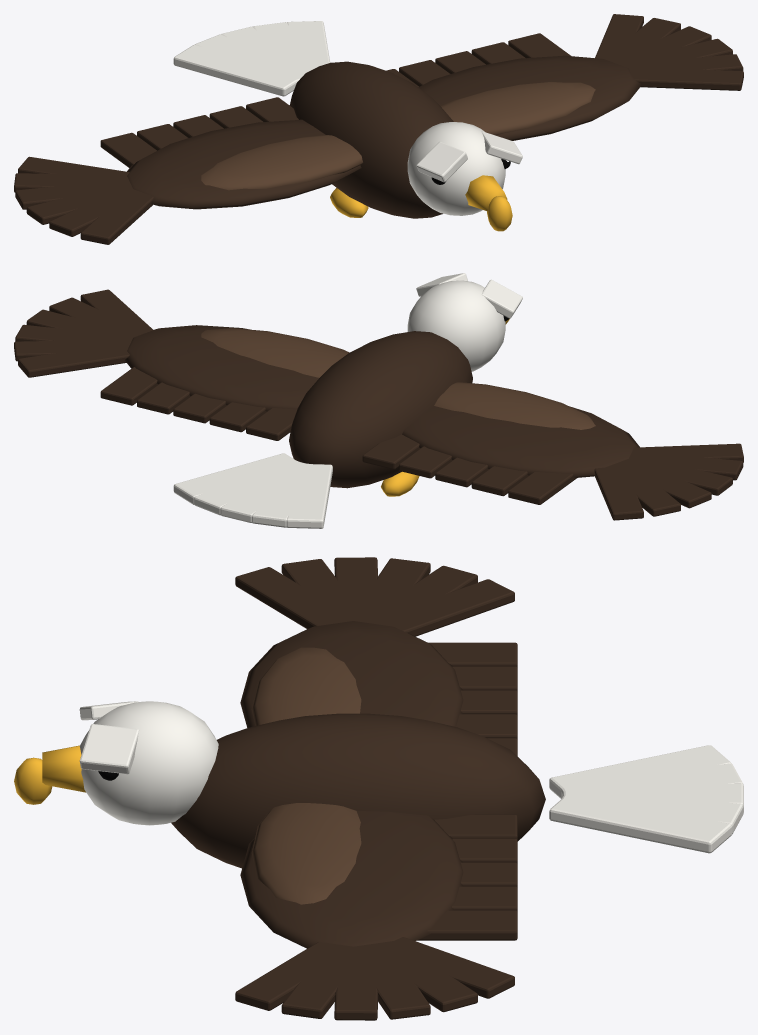
The model's file is eagle.glb.
The picture shows the model from 3 angles, top to bottom: view 1: azimuth 30°, elevation 25°; view 2: azimuth 150°, elevation 25°; view 3: azimuth 270°, elevation 25°; orthographic projection. The views are drawn at different scales.
Visible parts, largest first — view 1: body, wing_R, wing_L; view 2: body, wing_R, wing_L; view 3: body, wing_L, wing_R.
Part boxes in pixels (bbox=[...]): body: bbox=[173, 21, 522, 231]; wing_R: bbox=[14, 97, 362, 244]; wing_L: bbox=[386, 14, 743, 140]; body: bbox=[173, 273, 522, 528]; wing_R: bbox=[362, 382, 743, 520]; wing_L: bbox=[14, 289, 349, 440]; body: bbox=[14, 701, 743, 868]; wing_L: bbox=[235, 803, 517, 1020]; wing_R: bbox=[235, 557, 517, 756].
Bounding box in the file's own units: 1.9 × 0.37 × 1.29.
